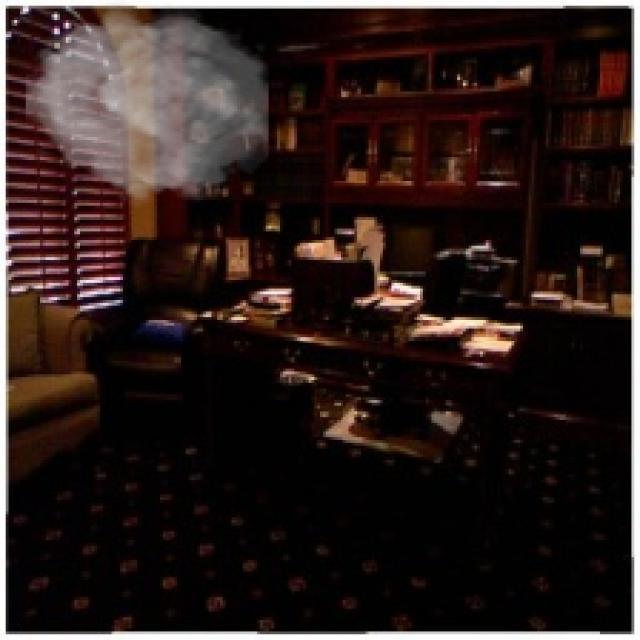Smoke: (25, 0, 268, 209)
